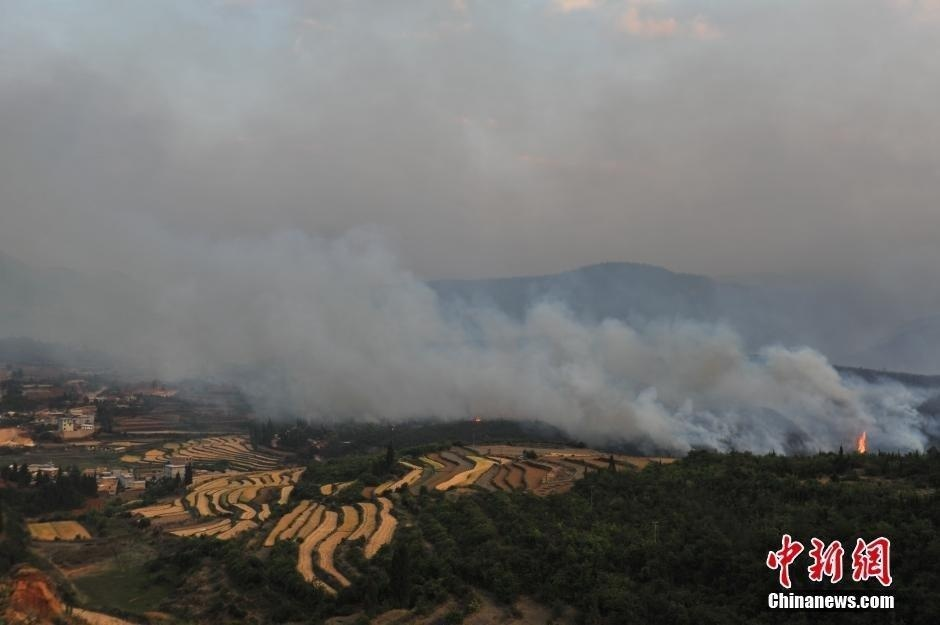fire: (852, 431, 868, 454)
